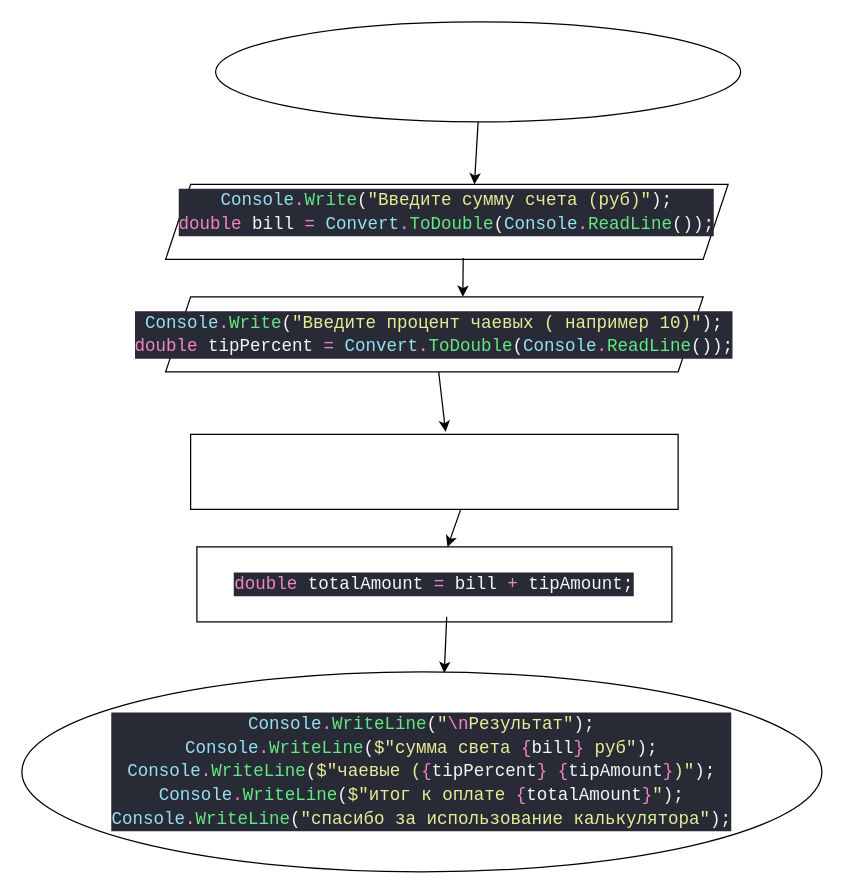
This 844x894 diagram has some shape labels left out. Here are the shapes that lost their labels. From the top down, the centre of each, then its label:
point 477,71: Console . WriteLine ( " калькулятор чаевых " );
point 433,471: double tipAmount = bill * ( tipPercent / 100 );
